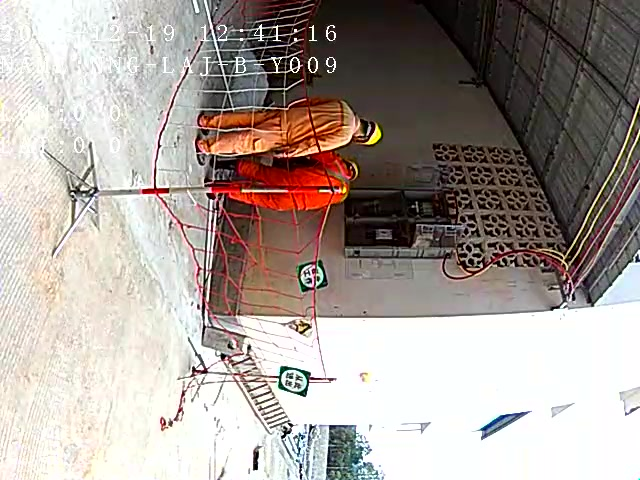halt: (354, 119, 385, 148), (345, 161, 362, 181)
